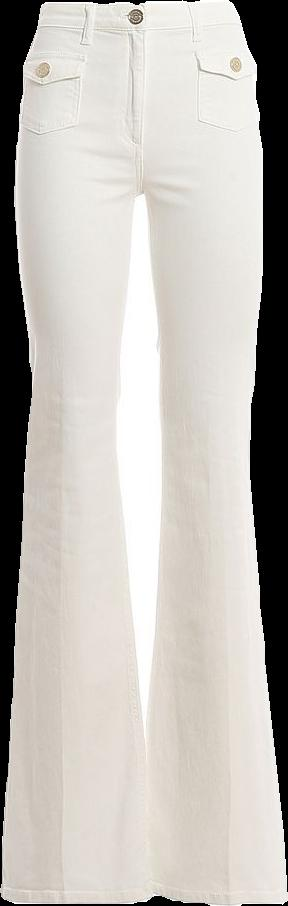Hemline: (0, 886, 147, 905), (142, 889, 287, 905)
Pantleg: (1, 0, 149, 905), (142, 0, 287, 905)
Waistline: (34, 12, 243, 34), (39, 0, 228, 11)
